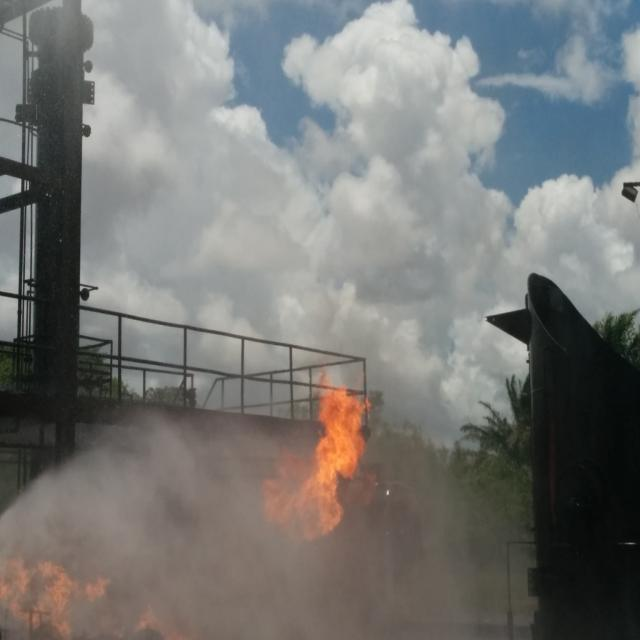Fire: (258, 375, 372, 537), (0, 554, 110, 640)
Smoke: (1, 406, 530, 640)
